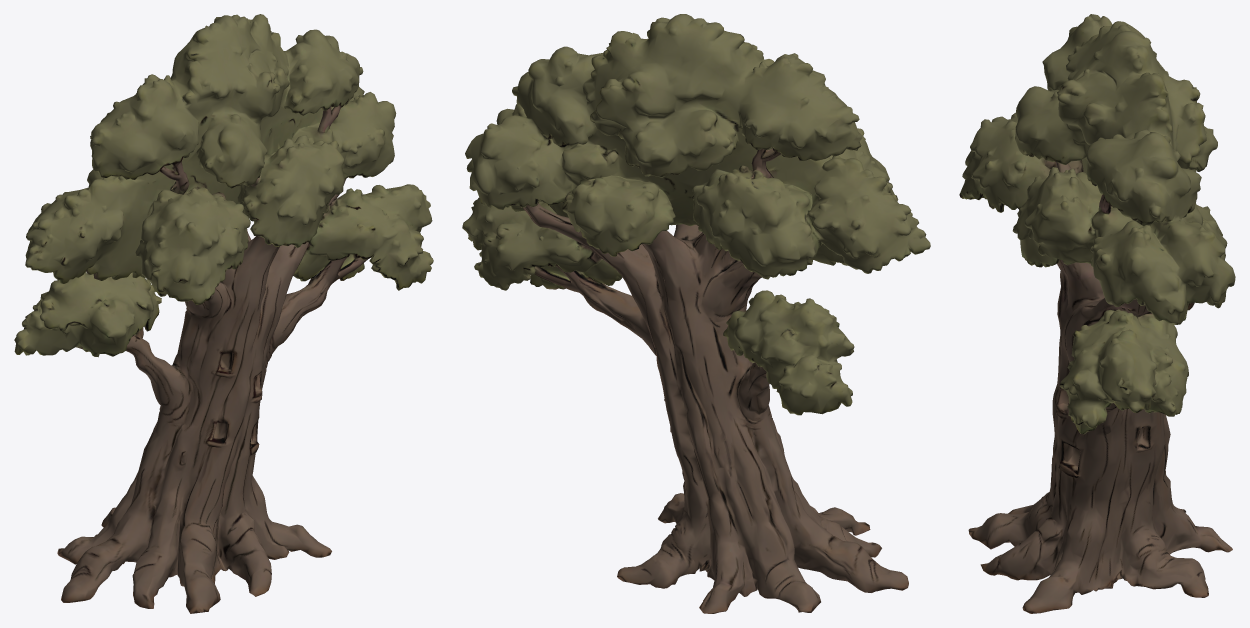
Rendered from old_stoic.glb.
The picture shows the model from 3 angles, left to right: view 1: azimuth 30°, elevation 25°; view 2: azimuth 150°, elevation 25°; view 3: azimuth 270°, elevation 25°; orthographic projection. The views are drawn at different scales.
Parts seen in each view (by area): view 1: canopy, trunk; view 2: canopy, trunk; view 3: canopy, trunk.
Part boxes in pixels (x1,y1,x2,y2): canopy: (14,14,433,357); trunk: (57,105,369,613); canopy: (462,14,930,415); trunk: (523,147,908,613); canopy: (959,14,1235,434); trunk: (959,160,1232,613).
Size of the model in its own units: 11.84 by 14 by 6.3.
1 material, 1 textured.
